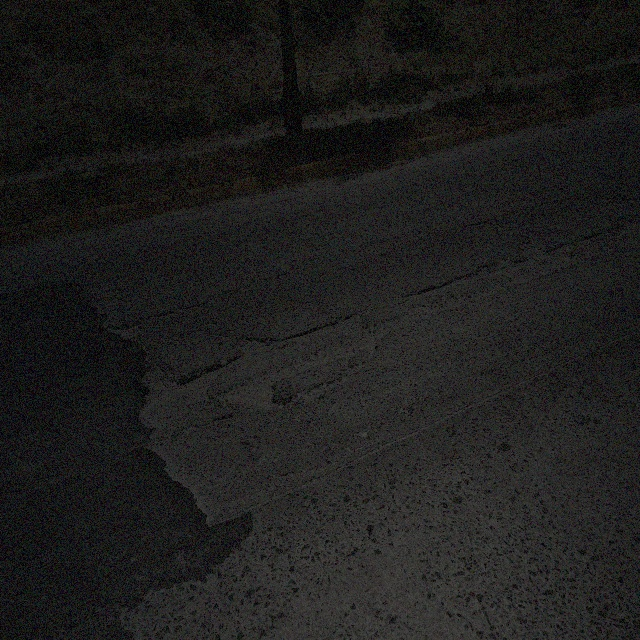pothole: (182, 302, 378, 436), (407, 277, 472, 315), (175, 366, 230, 403), (516, 238, 556, 284), (608, 213, 638, 260), (570, 232, 605, 262), (101, 322, 146, 342)
